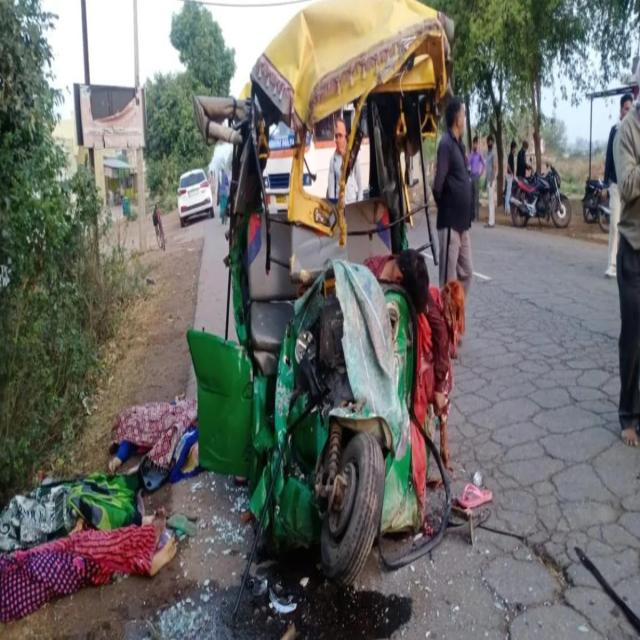accident: (189, 0, 468, 585)
bicycle: (152, 205, 165, 248)
car: (178, 171, 214, 227)
motorcycle: (510, 165, 571, 227), (582, 178, 609, 231)
